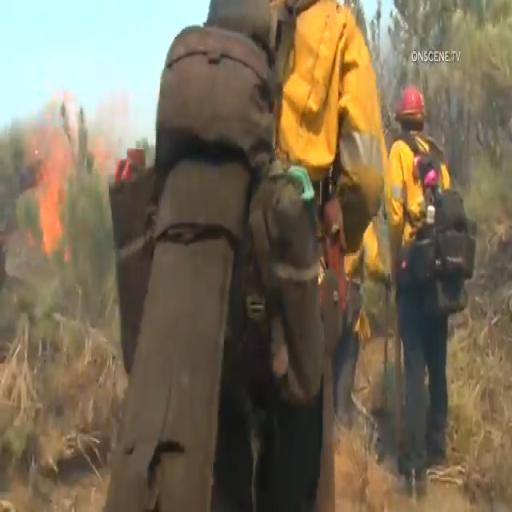fire: (36, 127, 74, 276)
